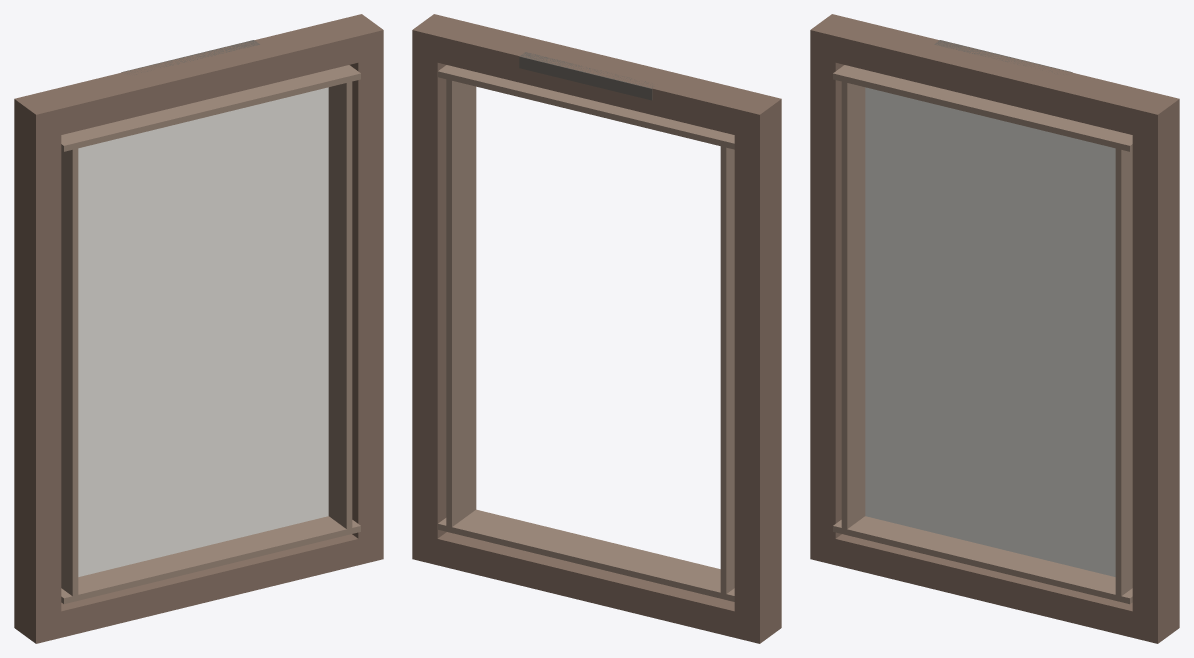
The model's file is painting-frame.glb.
3 renders of one model, left to right at view 1: azimuth 30°, elevation 25°; view 2: azimuth 150°, elevation 25°; view 3: azimuth 330°, elevation 25°, orthographic.
Visible parts, largest first — view 1: mount-board, frame-left, frame-top, frame-right, frame-bottom, bevel-right, bevel-left, bevel-bottom, bevel-top, hanging-cleat; view 2: frame-left, frame-right, frame-top, bevel-right, frame-bottom, bevel-bottom, bevel-left, bevel-top, hanging-cleat; view 3: mount-board, frame-right, frame-top, frame-left, frame-bottom, bevel-left, bevel-right, bevel-bottom, bevel-top, hanging-cleat.
Part boxes in pixels (box(x1,y1,x2,y2)): mount-board: box(78, 87, 328, 576); frame-left: box(14, 125, 61, 617); frame-top: box(14, 14, 383, 141); frame-right: box(350, 56, 383, 538); frame-bottom: box(14, 533, 383, 643); bevel-right: box(328, 78, 352, 530); bevel-left: box(61, 146, 78, 596); bevel-bottom: box(61, 516, 360, 604); bevel-top: box(61, 65, 360, 151); hanging-cleat: box(121, 40, 259, 74); frame-left: box(734, 125, 781, 617); frame-right: box(412, 56, 446, 538); frame-top: box(412, 14, 781, 141); bevel-right: box(446, 77, 476, 526); frame-bottom: box(412, 532, 781, 643); bevel-bottom: box(438, 509, 734, 601); bevel-left: box(720, 146, 734, 593); bevel-top: box(438, 65, 734, 149); hanging-cleat: box(519, 52, 654, 100); mount-board: box(865, 87, 1115, 576); frame-right: box(1132, 125, 1179, 617); frame-top: box(810, 14, 1179, 141); frame-left: box(810, 56, 843, 538); frame-bottom: box(810, 533, 1179, 643); bevel-left: box(841, 79, 865, 529); bevel-right: box(1115, 148, 1132, 596); bevel-bottom: box(833, 516, 1132, 604); bevel-top: box(833, 65, 1132, 151); hanging-cleat: box(934, 40, 1072, 74).
Size of the model in its own units: 1.1 by 1.6 by 0.1365.
